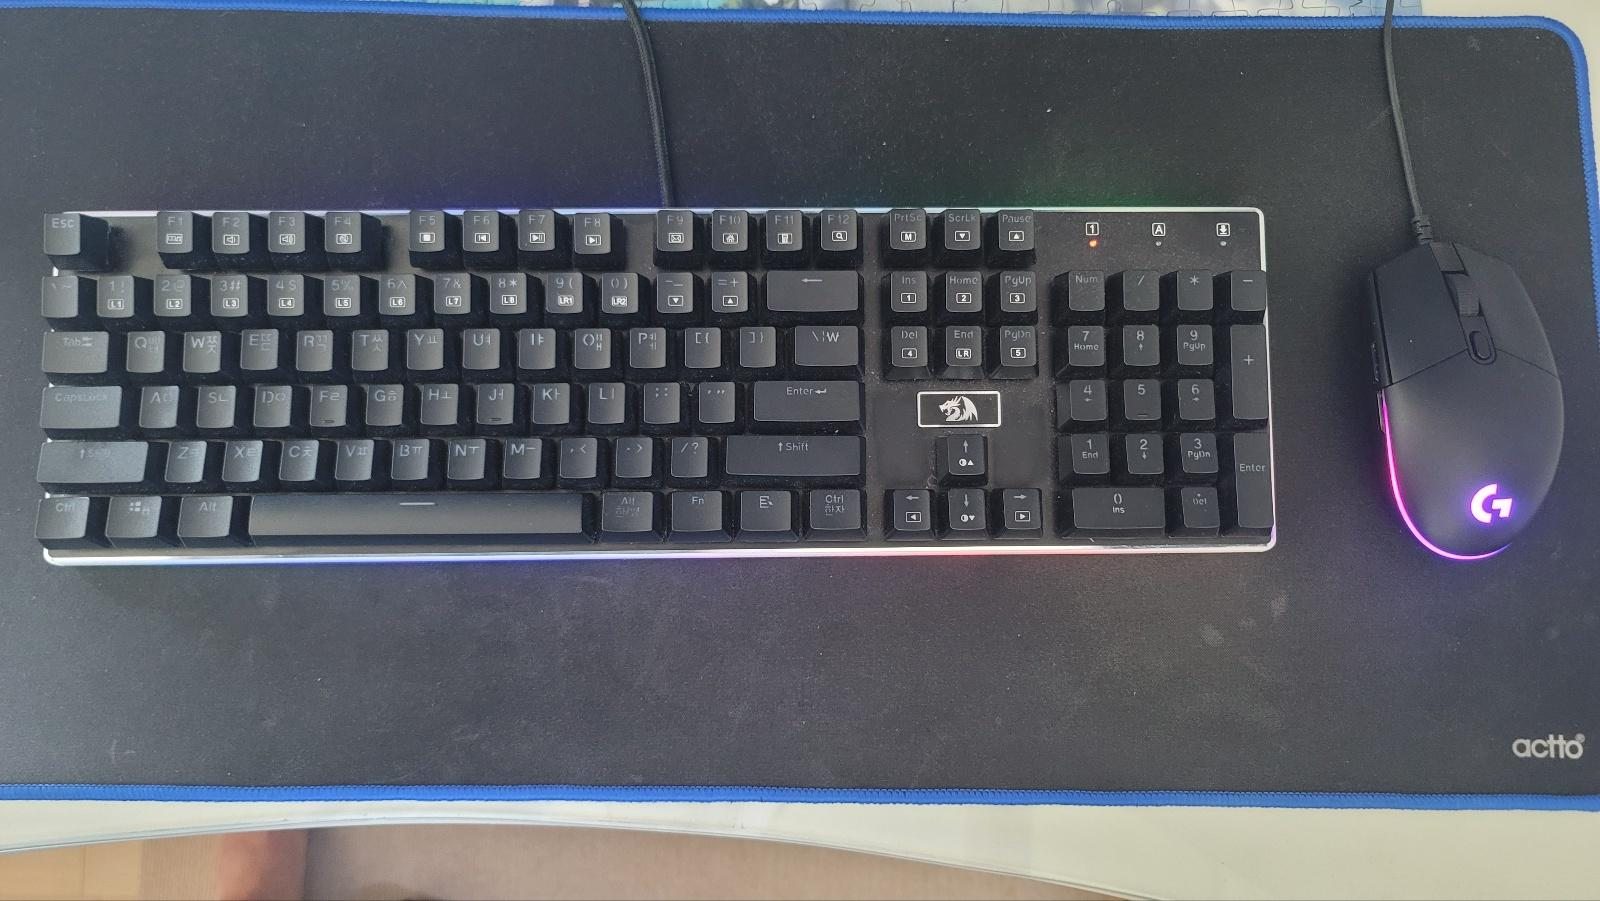keyboard: (33, 203, 1277, 564)
mouse: (1365, 237, 1566, 560)
